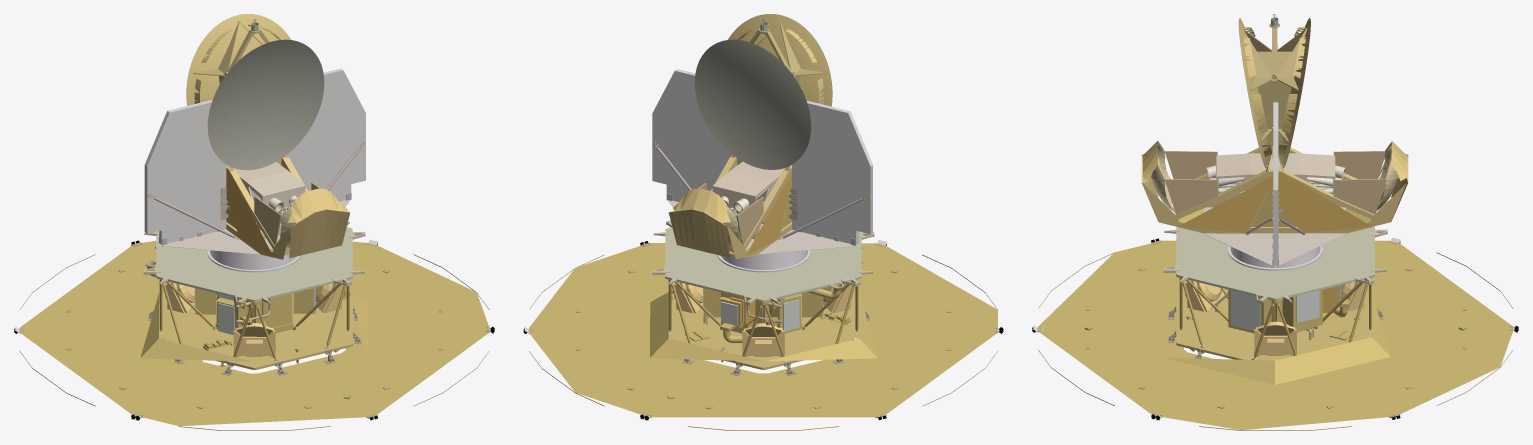
Rendered from space-wmap.glb.
3 renders of one model, left to right at view 1: azimuth 30°, elevation 25°; view 2: azimuth 150°, elevation 25°; view 3: azimuth 270°, elevation 25°, orthographic.
Parts seen in each view (by area): view 1: Layer_0; view 2: Layer_0; view 3: Layer_0.
Part boxes in pixels (x1=…): Layer_0: x1=14, y1=14, x2=494, y2=430; Layer_0: x1=523, y1=14, x2=1003, y2=430; Layer_0: x1=1032, y1=14, x2=1518, y2=430.
Bounding box in the file's own units: 278 × 208 × 283.
Materials: 2 (2 with a texture image).
